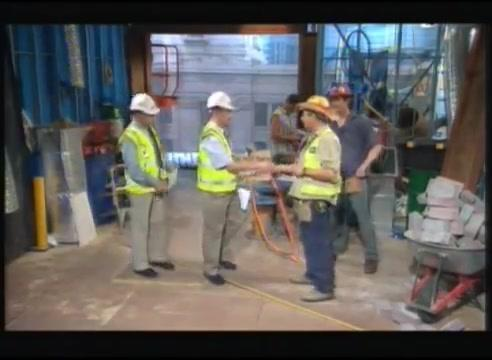vest: (300, 126, 340, 202), (195, 123, 237, 194), (122, 125, 163, 193)
